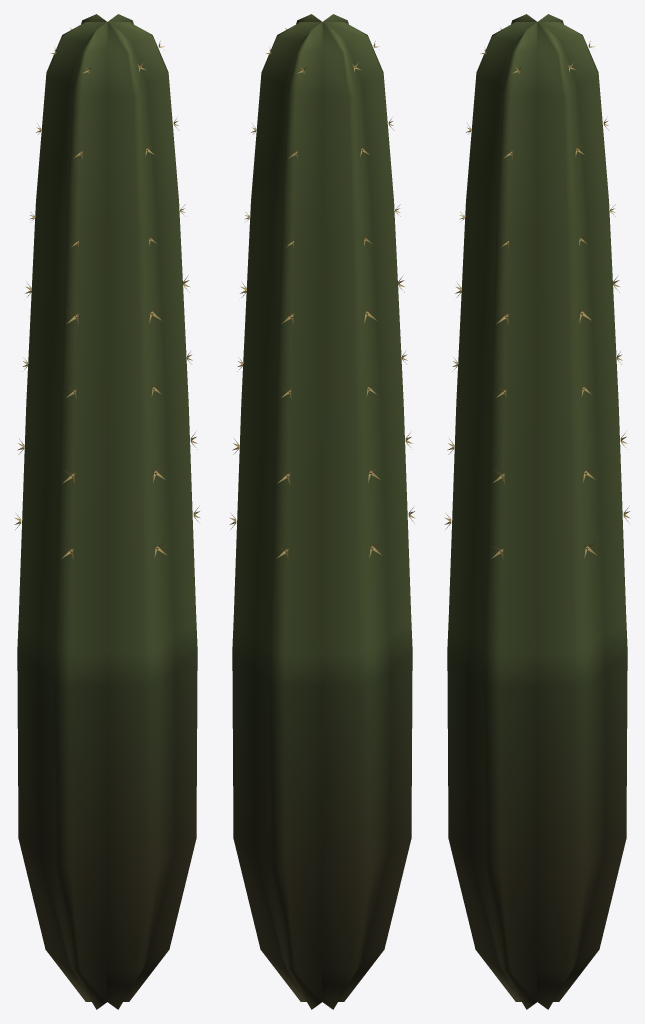
Rendered from plants-cacti-succulents-column-cactus_v3.glb.
3 renders of one model, left to right at view 1: azimuth 30°, elevation 25°; view 2: azimuth 150°, elevation 25°; view 3: azimuth 270°, elevation 25°, orthographic.
Parts seen in each view (by area): view 1: Column Cactus_v3; view 2: Column Cactus_v3; view 3: Column Cactus_v3.
Boxes of the visible parts, left/top/right/bottom form: Column Cactus_v3: left=14, top=14, right=200, bottom=1009; Column Cactus_v3: left=229, top=14, right=415, bottom=1009; Column Cactus_v3: left=444, top=14, right=630, bottom=1009.
Size of the model in its own units: 0.2461 by 1.5 by 0.2593.
